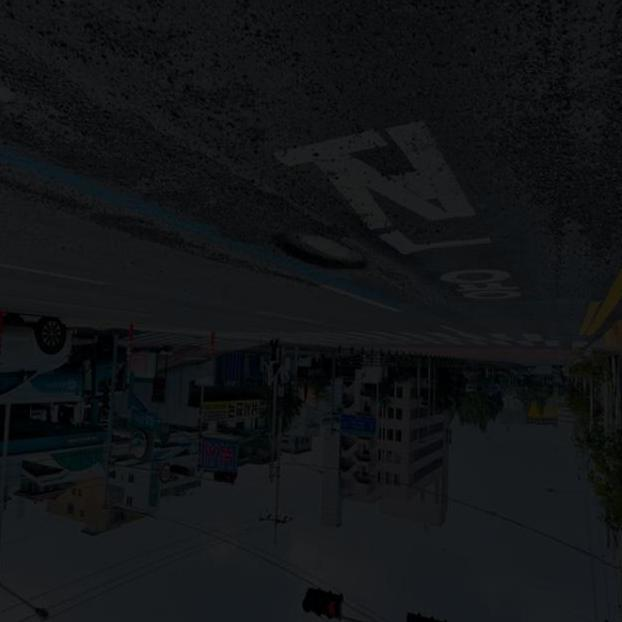pothole: (263, 215, 375, 299)
